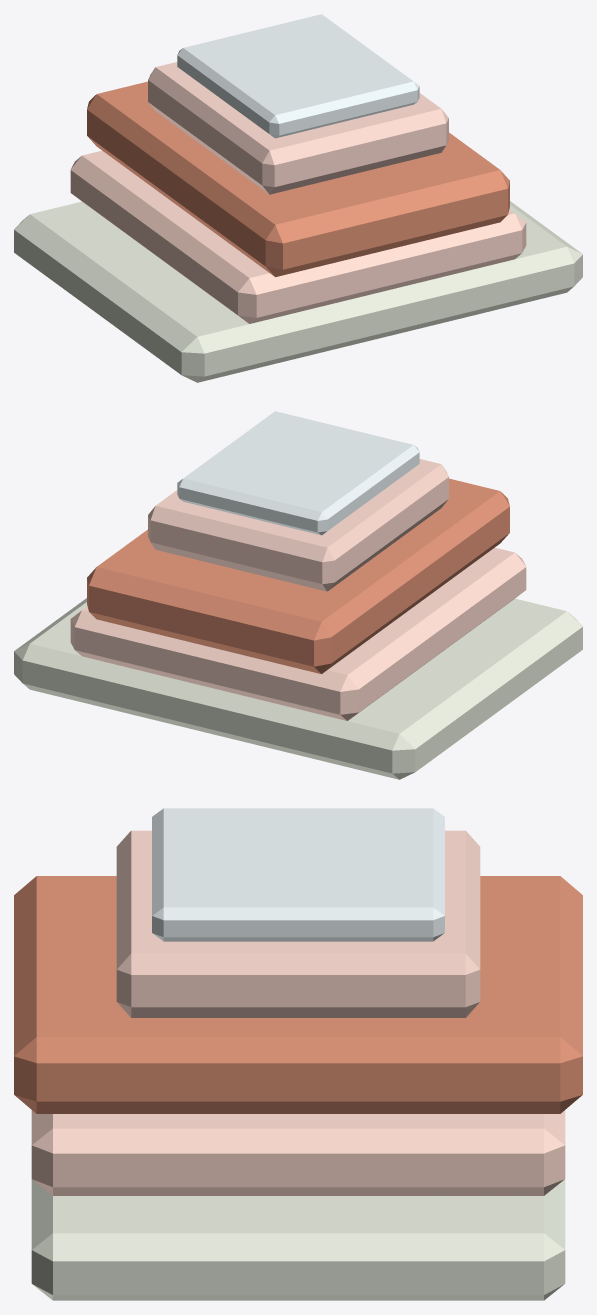
The model's file is Laundry_towels7.fbx.
3 renders of one model, top to bottom at view 1: azimuth 30°, elevation 25°; view 2: azimuth 150°, elevation 25°; view 3: azimuth 270°, elevation 25°, orthographic. The views are drawn at different scales.
Parts seen in each view (by area): view 1: Laundry_towels7; view 2: Laundry_towels7; view 3: Laundry_towels7.
Boxes of the visible parts, x1,y1,x2,y2 form: Laundry_towels7: [14, 14, 582, 382]; Laundry_towels7: [14, 411, 582, 779]; Laundry_towels7: [14, 808, 582, 1300].
Size of the model in its own units: 66.33 by 55.52 by 33.43.
